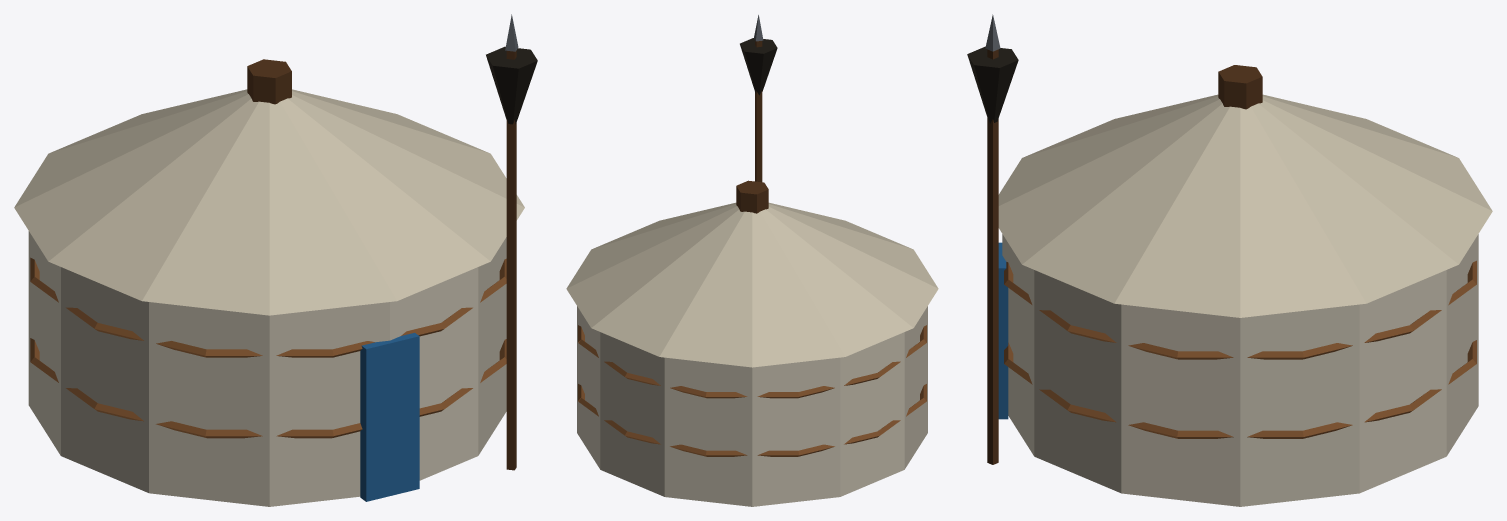
File: orc_house_b.glb
The picture shows the model from 3 angles, left to right: view 1: azimuth 30°, elevation 25°; view 2: azimuth 150°, elevation 25°; view 3: azimuth 270°, elevation 25°; orthographic projection. The views are drawn at different scales.
Visible parts, largest first — view 1: orc_house_b; view 2: orc_house_b; view 3: orc_house_b.
Boxes of the visible parts, x1=… form: orc_house_b: x1=14, y1=14, x2=537, y2=506; orc_house_b: x1=566, y1=15, x2=938, y2=506; orc_house_b: x1=967, y1=14, x2=1492, y2=506.
Size of the model in its own units: 2.65 by 2.6 by 2.76.
